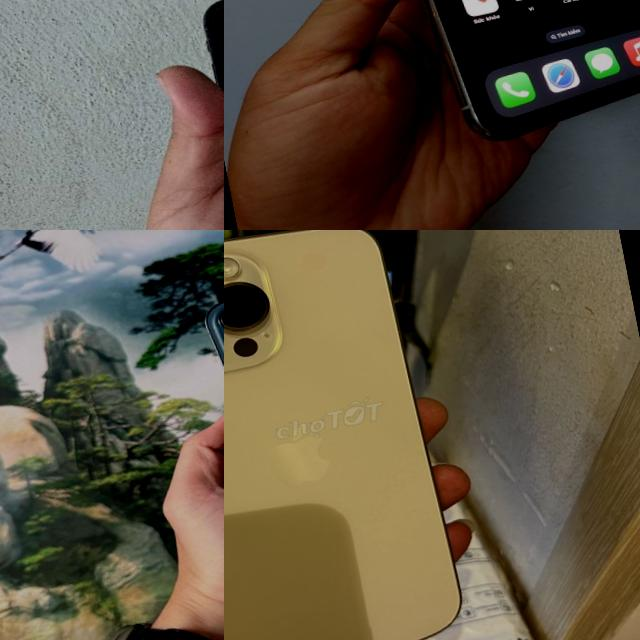gen_11: (423, 0, 640, 138)
gen_14: (224, 230, 481, 640)
